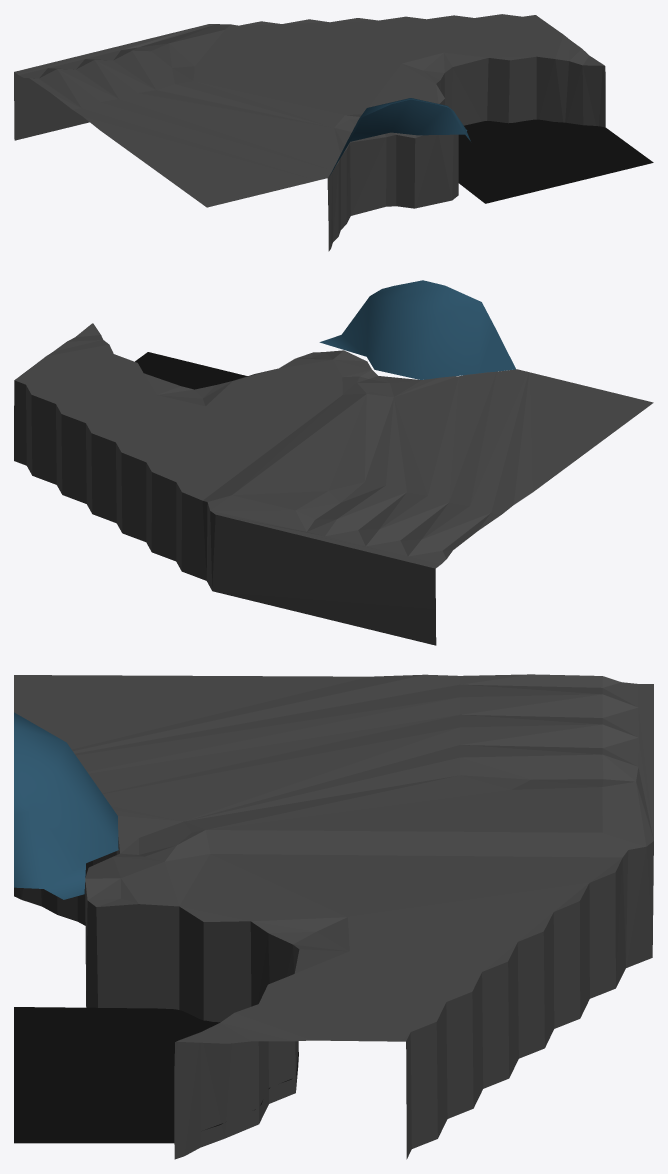
The model's file is newsho-9.glb.
The picture shows the model from 3 angles, top to bottom: view 1: azimuth 30°, elevation 25°; view 2: azimuth 150°, elevation 25°; view 3: azimuth 270°, elevation 25°; orthographic projection. The views are drawn at different scales.
Parts seen in each view (by area): view 1: newsho-9; view 2: newsho-9; view 3: newsho-9.
Boxes of the visible parts, bbox=[...] form: newsho-9: bbox=[14, 14, 653, 251]; newsho-9: bbox=[14, 280, 653, 645]; newsho-9: bbox=[14, 674, 653, 1159].
Bounding box in the file's own units: 2 × 0.5658 × 1.49.
